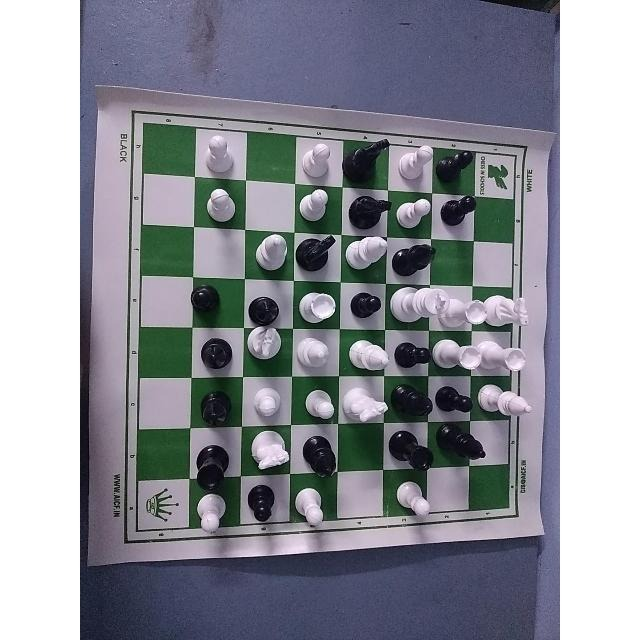black-bishop: (194, 329, 238, 375), (440, 428, 488, 470), (395, 379, 441, 419), (197, 380, 235, 428), (300, 433, 343, 475), (394, 240, 442, 276), (248, 290, 280, 326)
black-knight: (346, 130, 395, 186), (343, 189, 395, 233), (295, 228, 343, 275)
black-pawn: (243, 481, 282, 531), (186, 282, 234, 321), (442, 191, 482, 235), (439, 143, 479, 187), (348, 280, 382, 321), (399, 330, 433, 370), (439, 378, 472, 417)
black-rook: (390, 425, 433, 469), (194, 444, 235, 486)
white-bishop: (345, 231, 390, 276), (478, 389, 534, 421), (247, 231, 289, 271), (294, 338, 335, 378), (346, 334, 390, 368)
white-king: (390, 283, 445, 323)
white-knight: (248, 426, 292, 474), (344, 385, 388, 429), (247, 324, 293, 365), (493, 285, 529, 332)
white-pawn: (194, 181, 246, 227), (390, 477, 437, 527), (290, 486, 338, 534), (299, 135, 341, 182), (197, 130, 233, 180), (398, 138, 438, 183), (296, 376, 335, 422), (190, 493, 230, 537), (394, 192, 436, 231), (244, 384, 281, 426), (298, 182, 338, 219)
white-rook: (293, 284, 339, 328), (485, 338, 532, 377), (451, 290, 487, 327), (437, 336, 474, 371)
